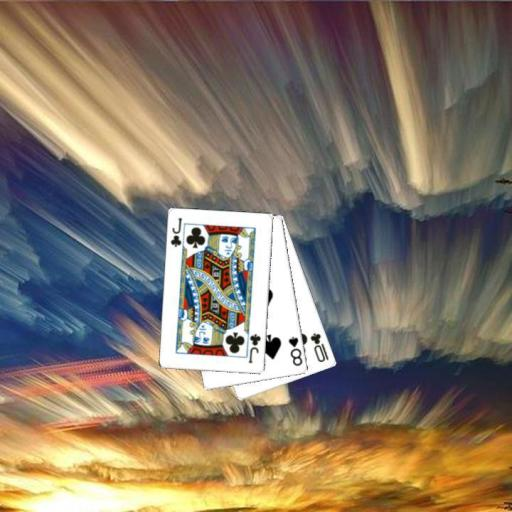10C: (307, 330, 330, 364)
8S: (286, 334, 304, 368)
JC: (246, 331, 263, 365), (168, 215, 184, 248)
